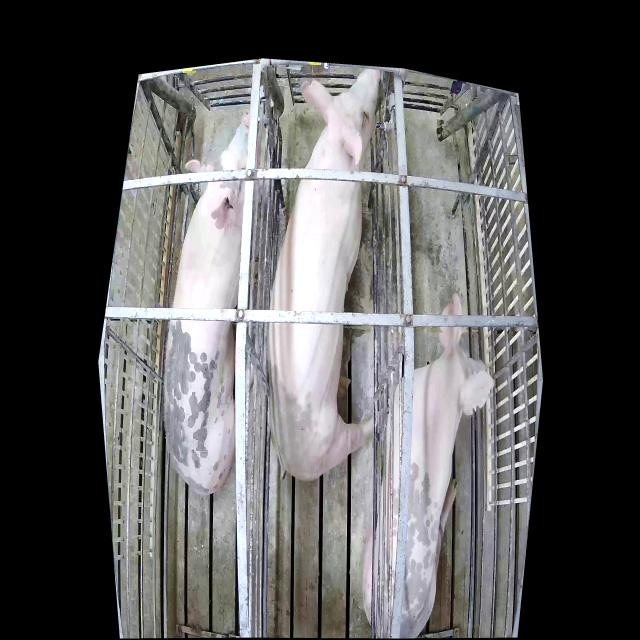pig: (267, 68, 381, 481), (362, 295, 495, 639), (165, 112, 261, 493)
